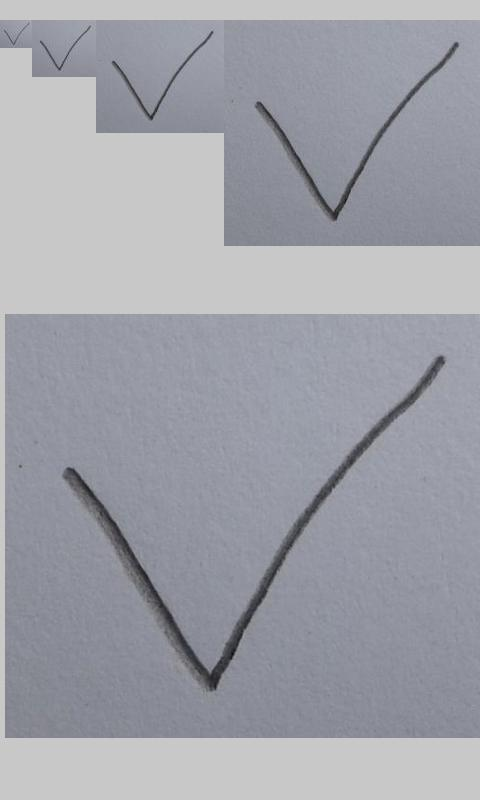check_box: (63, 358, 442, 691), (255, 42, 458, 221), (112, 30, 213, 121), (40, 25, 91, 71), (4, 23, 29, 45)
